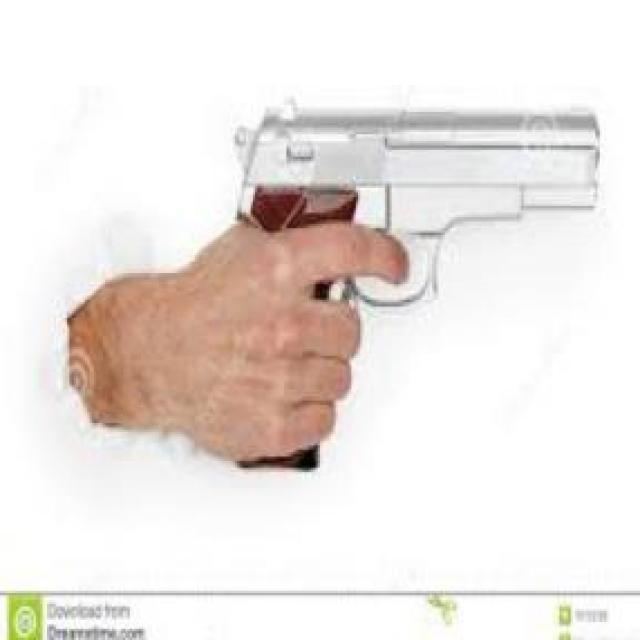pistol: (228, 94, 606, 484)
